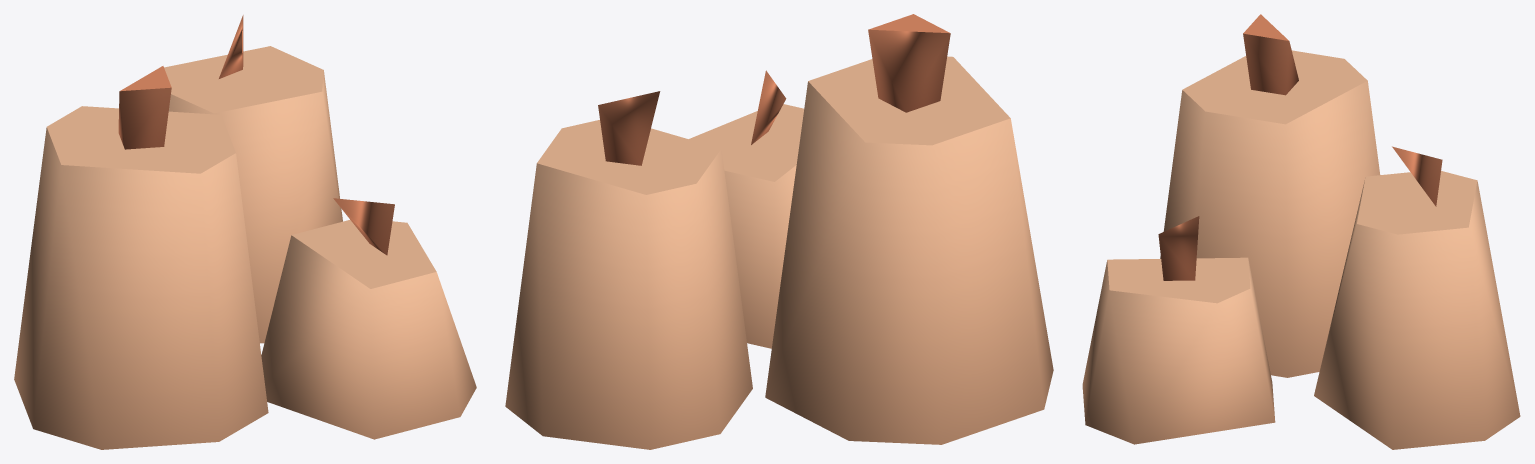
The model's file is cc0-candle-multiple-lod1.glb.
3 renders of one model, left to right at view 1: azimuth 30°, elevation 25°; view 2: azimuth 150°, elevation 25°; view 3: azimuth 270°, elevation 25°, orthographic. The views are drawn at different scales.
Visible parts, largest first — view 1: part_0; view 2: part_0; view 3: part_0.
Boxes of the visible parts, bbox=[...] form: part_0: bbox=[14, 15, 476, 449]; part_0: bbox=[505, 14, 1053, 449]; part_0: bbox=[1082, 14, 1520, 449].
Size of the model in its own units: 0.2552 by 0.2002 by 0.2667.
Materials: 1 (1 with a texture image).
